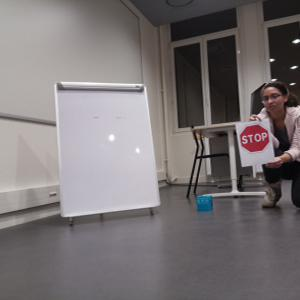stop: (240, 125, 269, 153)
